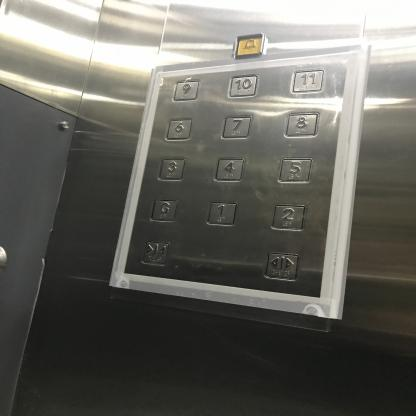1: (205, 200, 238, 226)
10: (226, 73, 260, 98)
11: (290, 67, 325, 94)
2: (271, 203, 306, 230)
3: (156, 158, 187, 180)
4: (212, 157, 245, 182)
5: (276, 156, 312, 184)
6: (163, 118, 194, 141)
7: (220, 115, 252, 140)
8: (282, 111, 320, 138)
9: (171, 78, 200, 102)
G: (148, 198, 180, 223)
alarm: (233, 32, 266, 58)
close: (140, 239, 170, 266)
open: (264, 250, 300, 282)
